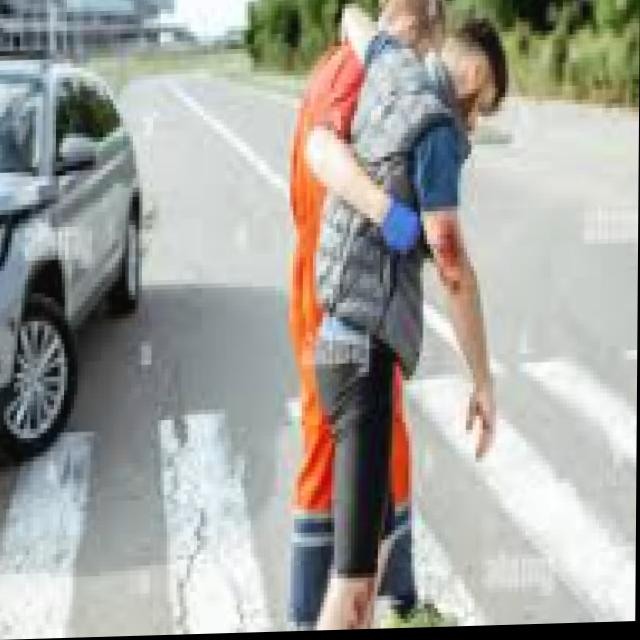injury: (425, 7, 506, 119), (362, 0, 447, 45), (431, 217, 465, 302)
